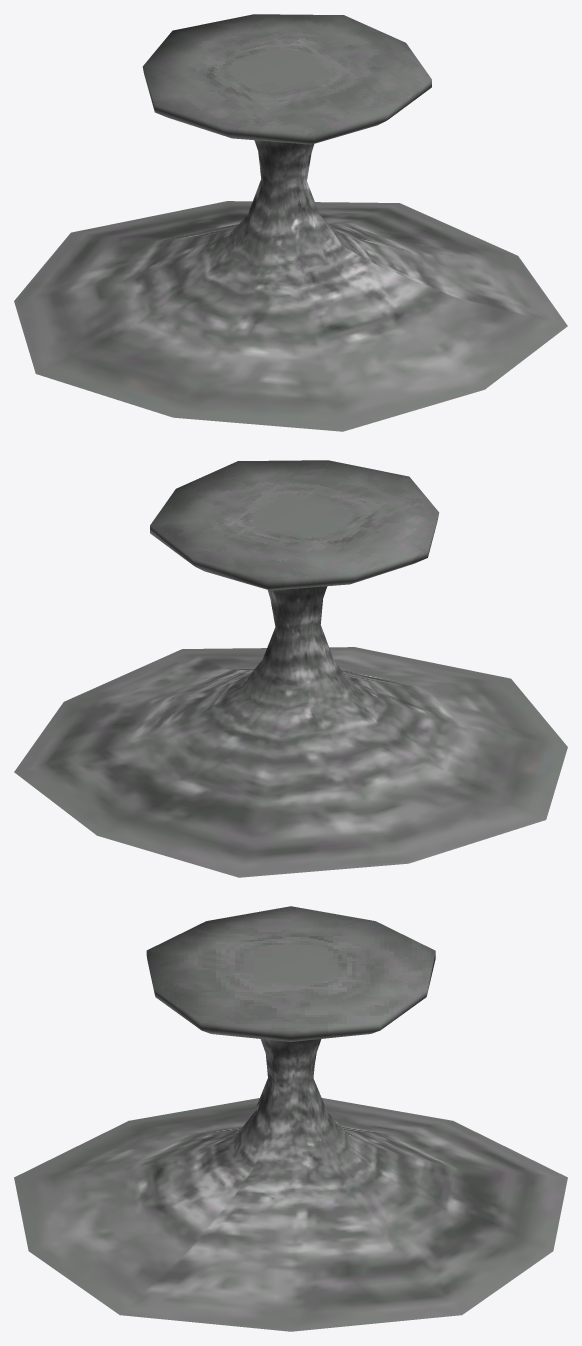
Rendered from INST_SWORDLIGHT_RINGPLATFORM.fbx.
3 renders of one model, top to bottom at view 1: azimuth 30°, elevation 25°; view 2: azimuth 150°, elevation 25°; view 3: azimuth 270°, elevation 25°, orthographic.
Visible parts, largest first — view 1: INST_SWORDLIGHT_RINGPLATFORM; view 2: INST_SWORDLIGHT_RINGPLATFORM; view 3: INST_SWORDLIGHT_RINGPLATFORM.
Boxes of the visible parts, x1,y1,x2,y2 form: INST_SWORDLIGHT_RINGPLATFORM: (14, 14, 567, 431); INST_SWORDLIGHT_RINGPLATFORM: (14, 460, 567, 877); INST_SWORDLIGHT_RINGPLATFORM: (14, 906, 567, 1331).
Bounding box in the file's own units: 17770 × 8604 × 17357.
Materials: 2 (2 with a texture image).
